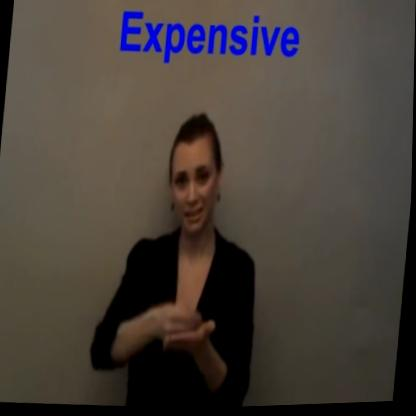Expensive: (134, 282, 225, 381)
